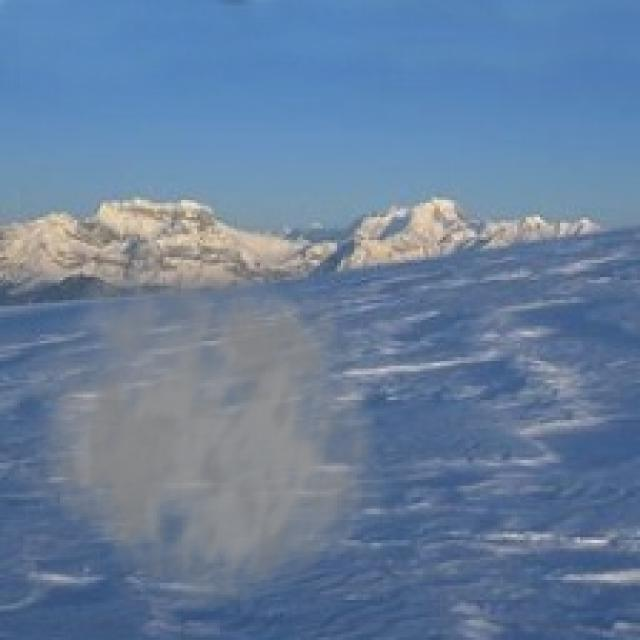Smoke: (9, 222, 392, 614)
